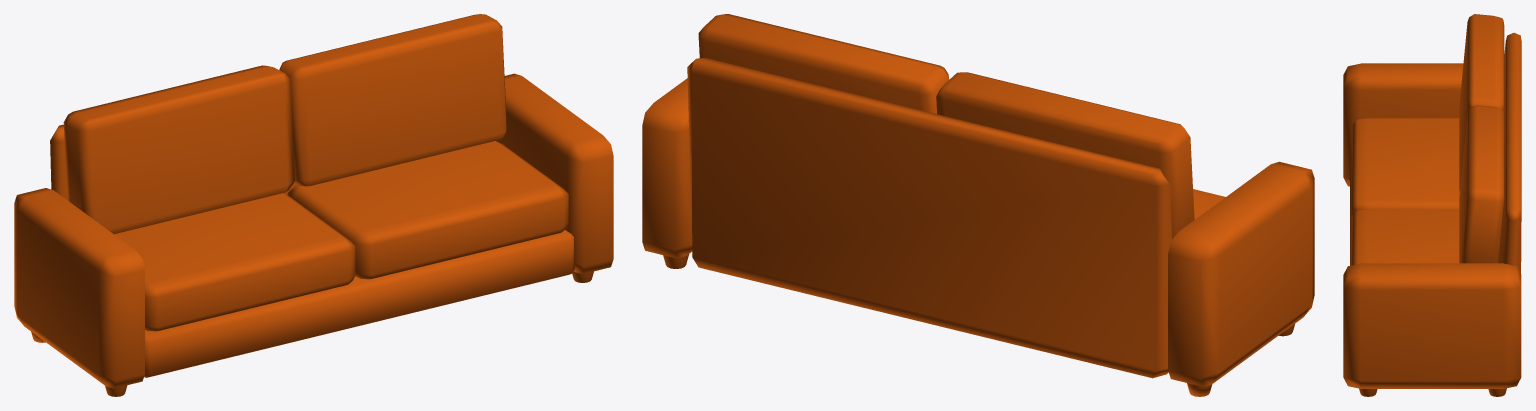
The model's file is Sofa_l.fbx.
3 views of the same model, side by side, from view 1: azimuth 30°, elevation 25°; view 2: azimuth 150°, elevation 25°; view 3: azimuth 270°, elevation 25° (orthographic). The views are drawn at different scales.
Visible parts, largest first — view 1: sofa.006; view 2: sofa.006; view 3: sofa.006.
Boxes of the visible parts, x1=… form: sofa.006: x1=14, y1=14, x2=613, y2=396; sofa.006: x1=642, y1=14, x2=1314, y2=396; sofa.006: x1=1343, y1=14, x2=1521, y2=396.
Size of the model in its own units: 293 by 101 by 121.
